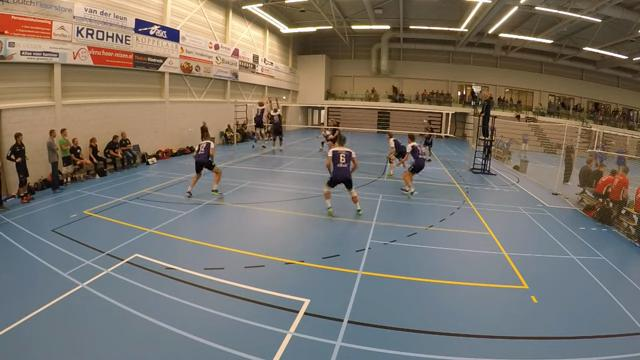muro: (265, 91, 289, 153), (242, 94, 267, 152)
